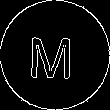M_N: (32, 30, 78, 81)
